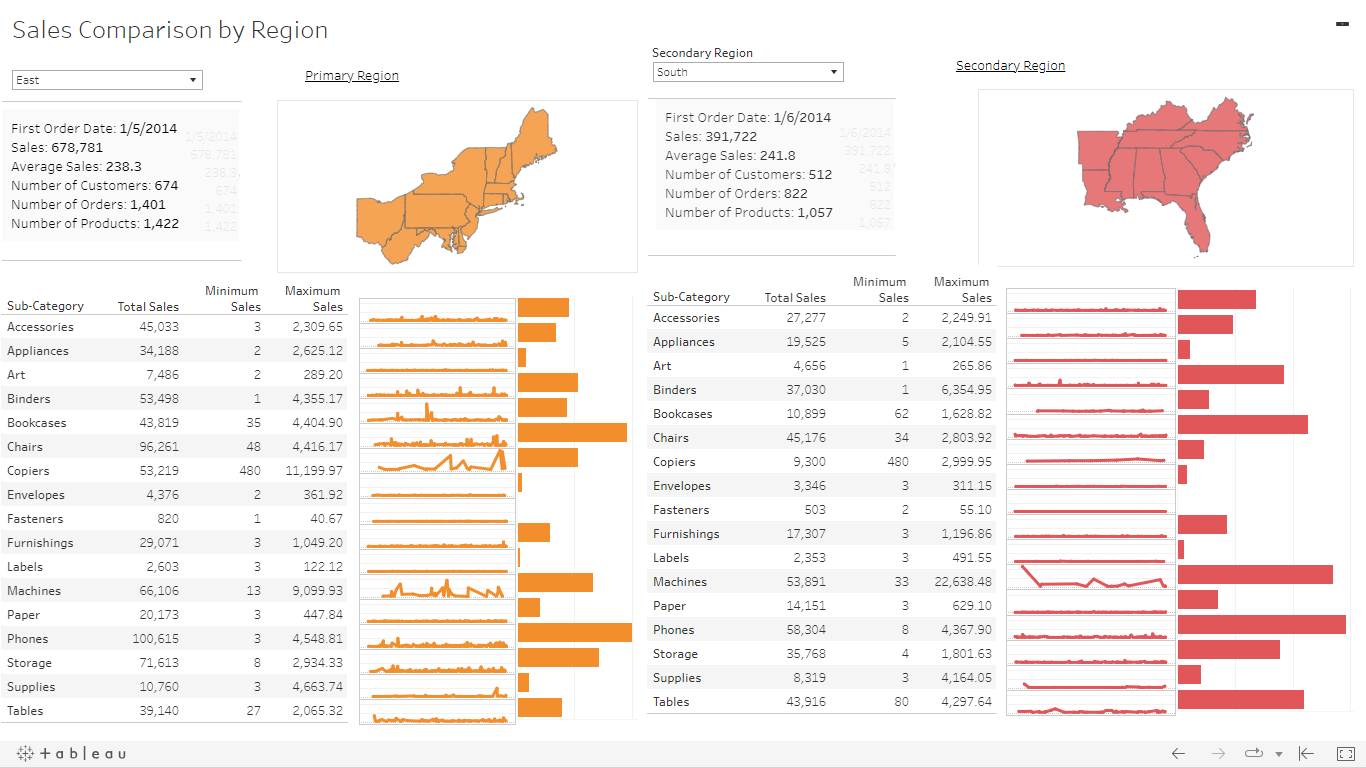

The page's visual inventory and layout, read from the dashboard file:
{"tool":"tableau","page":{"name":"Sales Comparison by Region","canvas":[1000,1000],"units":"permille","ordinal":0},"visuals":[{"type":"text","box":[0,0,464.9,991.6]},{"type":"title","box":[6.9,13.5,986.1,70.9]},{"type":"dashboard-object","box":[977,18.6,11.5,27]},{"type":"parameter","param":"[Parameters].[Region Parameter 2]","box":[477,57.4,141.6,74.3]},{"type":"text","box":[700,60.8,143.4,52.4]},{"type":"text","box":[223,72.6,109.7,57.4]},{"type":"parameter","param":"[Parameters].[Region Parameter]","box":[8,94.6,141.6,35.5]},{"type":"worksheet","title":"SR Map","mark":"Multipolygon","box":[715.9,119.9,275.2,239.9]},{"type":"worksheet","title":"SR Top","mark":"Automatic","cols":["Region"],"box":[474.3,131.8,238.9,234.8]},{"type":"worksheet","title":"PR Map","mark":"Multipolygon","box":[202.7,135.1,264.6,233.1]},{"type":"worksheet","title":"PR Top","mark":"Automatic","cols":["Region"],"box":[1.8,136.8,205.3,231.4]},{"type":"worksheet","title":"SR Details","mark":"Automatic","rows":["Sub-Category"],"box":[473.4,358.1,266.4,631.8]},{"type":"worksheet","title":"SR Bar","mark":"Automatic","rows":["Sub-Category"],"cols":["Sales"],"box":[862,386.8,129.2,581.1]},{"type":"worksheet","title":"SR Spark","mark":"Automatic","rows":["Sub-Category","Sales"],"cols":["Order Date"],"box":[736.3,388.5,124.8,577.7]},{"type":"worksheet","title":"PR Bar","mark":"Automatic","rows":["Sub-Category"],"cols":["Sales"],"box":[378.8,398.7,88.5,582.8]},{"type":"worksheet","title":"PR Spark","mark":"Automatic","rows":["Sub-Category","Sales"],"cols":["Order Date"],"box":[262.8,402,115,576]}]}

Visuals, with their boxes on the dashboard's canvas, which has no fixed pixel size, in thousandths of its width and height (x1, y1, x2, y2). These are canvas units, not pixel positions in the 1366x768 screenshot, which may show the page scaled, cropped or inside an application window:
text: l=0, t=0, r=465, b=992
title: l=7, t=14, r=993, b=84
dashboard-object: l=977, t=19, r=988, b=46
parameter: l=477, t=57, r=619, b=132
text: l=700, t=61, r=843, b=113
text: l=223, t=73, r=333, b=130
parameter: l=8, t=95, r=150, b=130
"SR Map" worksheet (Multipolygon marks): l=716, t=120, r=991, b=360
"SR Top" worksheet: l=474, t=132, r=713, b=367
"PR Map" worksheet (Multipolygon marks): l=203, t=135, r=467, b=368
"PR Top" worksheet: l=2, t=137, r=207, b=368
"SR Details" worksheet: l=473, t=358, r=740, b=990
"SR Bar" worksheet: l=862, t=387, r=991, b=968
"SR Spark" worksheet: l=736, t=388, r=861, b=966
"PR Bar" worksheet: l=379, t=399, r=467, b=982
"PR Spark" worksheet: l=263, t=402, r=378, b=978
